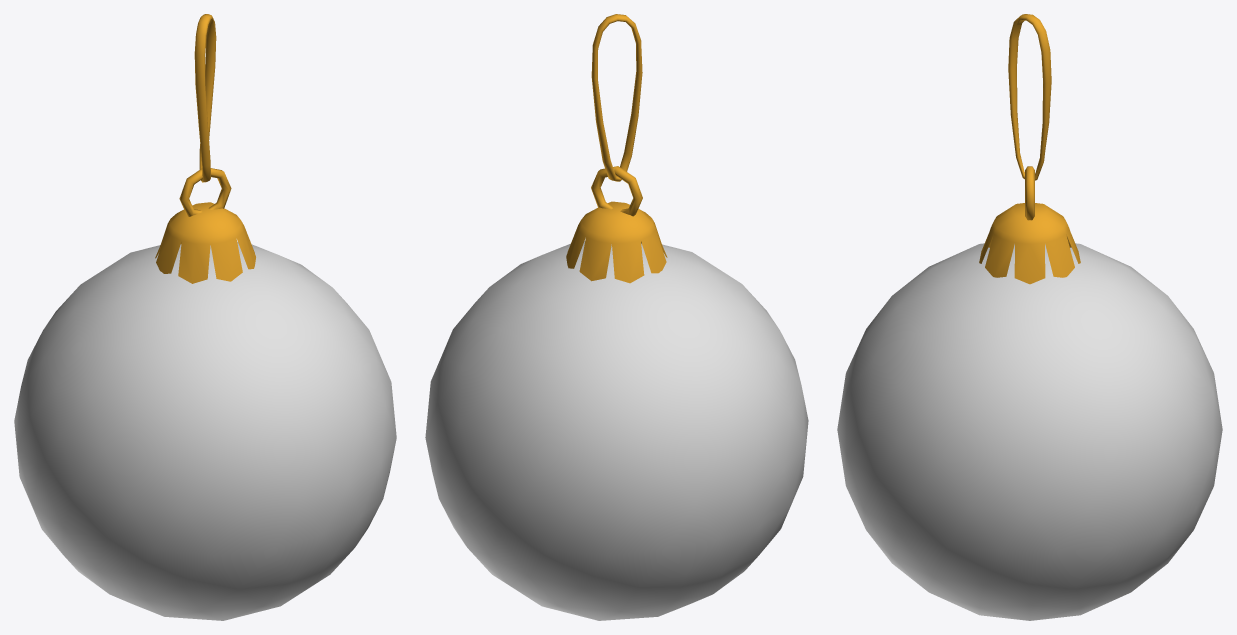
File: Ball_CrescentMoon.fbx
3 renders of one model, left to right at view 1: azimuth 30°, elevation 25°; view 2: azimuth 150°, elevation 25°; view 3: azimuth 270°, elevation 25°, orthographic.
Visible parts, largest first — view 1: Ball_CrescentMoon; view 2: Ball_CrescentMoon; view 3: Ball_CrescentMoon.
Boxes of the visible parts, x1,y1,x2,y2 form: Ball_CrescentMoon: (14, 14, 396, 620); Ball_CrescentMoon: (425, 14, 808, 620); Ball_CrescentMoon: (837, 14, 1222, 620).
Size of the model in its own units: 5.91 by 9.96 by 5.91.
